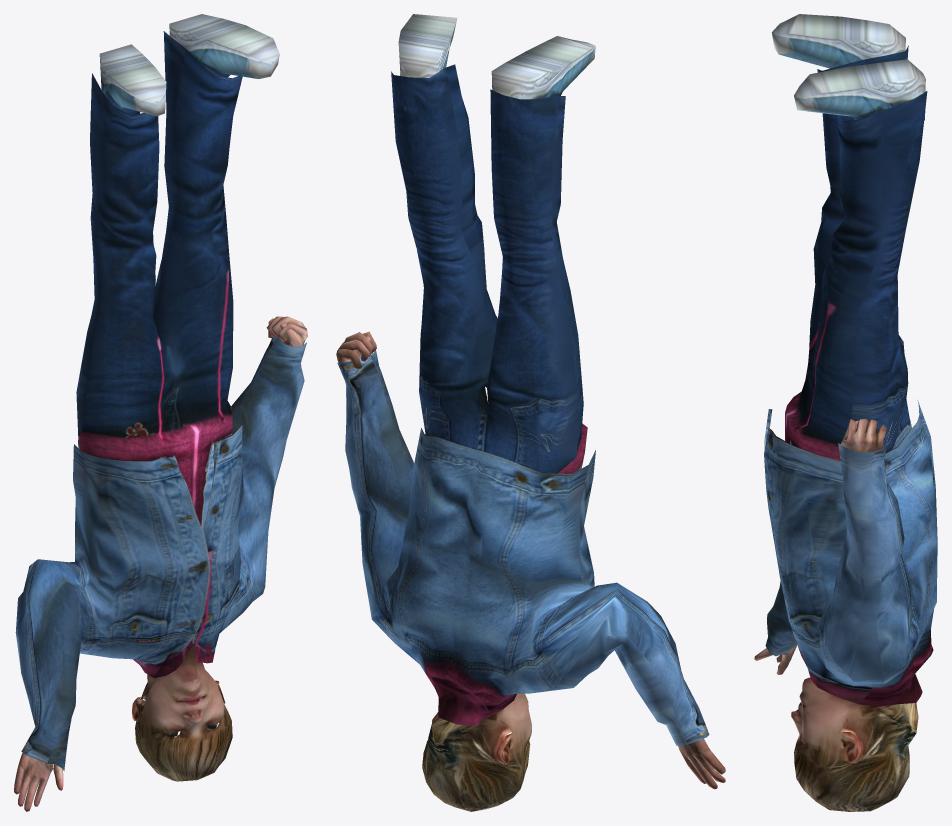
File: nvh2.glb
The picture shows the model from 3 angles, left to right: view 1: azimuth 30°, elevation 25°; view 2: azimuth 150°, elevation 25°; view 3: azimuth 270°, elevation 25°; orthographic projection. The views are drawn at different scales.
Visible parts, largest first — view 1: nv3; view 2: nv3; view 3: nv3.
Boxes of the visible parts, x1=… form: nv3: x1=14, y1=14, x2=307, y2=811; nv3: x1=336, y1=14, x2=725, y2=811; nv3: x1=754, y1=14, x2=937, y2=811.
Size of the model in its own units: 0.5658 by 1.2 by 0.2645.
Materials: 1 (1 with a texture image).
